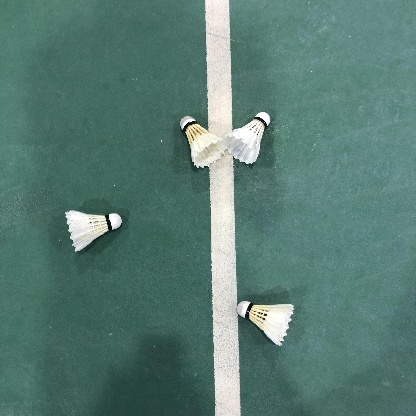ball_single: (237, 301, 294, 346), (180, 116, 227, 169), (65, 210, 122, 253), (224, 112, 270, 164)
